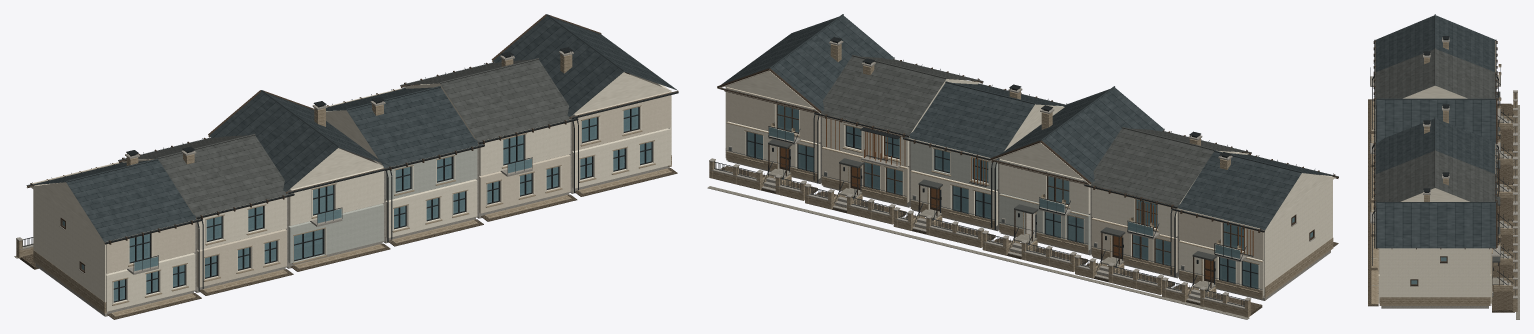
The model's file is HIL07_lod2.glb.
3 views of the same model, side by side, from view 1: azimuth 30°, elevation 25°; view 2: azimuth 150°, elevation 25°; view 3: azimuth 270°, elevation 25° (orthographic). The views are drawn at different scales.
Visible parts, largest first — view 1: Roof/Weatherproof_Membrane/Roof_Slate, Roof/Weatherproof_Membrane/Roof_Grey, Facade/Rear_Ground/Plaster_Pale, Facade/Recessed_Glazing/Glass_Clear, Facade/Rear_Upper/Plaster_Pale, Facade/Rear_Ground/Plaster_Cream, Facade/Rear_Upper/Plaster_Cream, Facade/End_Walls/Plaster_Pale, Roof/Triangular_Rear_Gable/Plaster_Pale, Details/Rear_Patio_Limestone_Slabs/Stone_Local, Facade/Rear_Ground/Plaster_Grey, Roof/Closed_Gable_Returns/Plaster_Pale (+18 smaller); view 2: Roof/Weatherproof_Membrane/Roof_Slate, Roof/Weatherproof_Membrane/Roof_Grey, Facade/Recessed_Glazing/Glass_Clear, Facade/Upper_Plaster/Plaster_Pale, Facade/Ground_Plaster/Plaster_Pale, Facade/End_Walls/Plaster_Pale, Facade/Upper_Plaster/Plaster_Cream, Facade/Stone_Plints/Stone_Local, Details/Fence_Pillars/Stone_Local, Details/Front_Stone_Low_Wall/Stone_Local, Facade/Ground_Plaster/Plaster_Cream, Roof/Triangular_Front_Gable/Plaster_Pale (+39 smaller); view 3: Roof/Weatherproof_Membrane/Roof_Slate, Roof/Weatherproof_Membrane/Roof_Grey, Facade/End_Walls/Plaster_Pale, Details/Front_Garden_Soil/Soil, Facade/End_Stone_Plints/Stone_Local, Roof/Closed_Gable_Returns/Plaster_Pale, Details/Rear_Patio_Limestone_Slabs/Stone_Local, Details/Porch_Cut_Stone_Stringers/Stone_Local, Details/Rear_Garden_Soil/Soil, Details/Fence_Pillars/Stone_Local, Structure/Site_Front_Path/Paving, Details/Continuous_Front_Garden_Terrain/Soil (+19 smaller).
Part boxes in pixels (x1,y1,x2,y2): Roof/Weatherproof_Membrane/Roof_Slate: [29, 16, 677, 241]; Roof/Weatherproof_Membrane/Roof_Grey: [119, 59, 575, 216]; Facade/Rear_Ground/Plaster_Pale: [106, 128, 670, 311]; Facade/Recessed_Glazing/Glass_Clear: [113, 107, 651, 301]; Facade/Rear_Upper/Plaster_Pale: [196, 119, 570, 249]; Facade/Rear_Ground/Plaster_Cream: [196, 154, 570, 287]; Facade/Rear_Upper/Plaster_Cream: [106, 91, 670, 273]; Facade/End_Walls/Plaster_Pale: [33, 72, 671, 313]; Roof/Triangular_Rear_Gable/Plaster_Pale: [290, 72, 671, 189]; Details/Rear_Patio_Limestone_Slabs/Stone_Local: [111, 168, 671, 316]; Facade/Rear_Ground/Plaster_Grey: [288, 203, 383, 263]; Roof/Closed_Gable_Returns/Plaster_Pale: [30, 83, 476, 239]; Roof/Weatherproof_Membrane/Roof_Slate: [721, 15, 1336, 230]; Roof/Weatherproof_Membrane/Roof_Grey: [821, 56, 1249, 206]; Facade/Recessed_Glazing/Glass_Clear: [747, 105, 1258, 288]; Facade/Upper_Plaster/Plaster_Pale: [822, 114, 1177, 236]; Facade/Ground_Plaster/Plaster_Pale: [726, 121, 1263, 295]; Facade/End_Walls/Plaster_Pale: [725, 87, 1332, 298]; Facade/Upper_Plaster/Plaster_Cream: [726, 87, 1263, 259]; Facade/Stone_Plints/Stone_Local: [726, 151, 1262, 299]; Details/Fence_Pillars/Stone_Local: [709, 161, 1250, 317]; Details/Front_Stone_Low_Wall/Stone_Local: [713, 171, 1244, 316]; Facade/Ground_Plaster/Plaster_Cream: [822, 146, 1177, 272]; Roof/Triangular_Front_Gable/Plaster_Pale: [725, 71, 1082, 179]; Roof/Weatherproof_Membrane/Roof_Slate: [1376, 15, 1495, 248]; Roof/Weatherproof_Membrane/Roof_Grey: [1376, 49, 1495, 207]; Facade/End_Walls/Plaster_Pale: [1379, 248, 1490, 297]; Details/Front_Garden_Soil/Soil: [1496, 103, 1511, 310]; Facade/End_Stone_Plints/Stone_Local: [1379, 297, 1490, 305]; Roof/Closed_Gable_Returns/Plaster_Pale: [1401, 85, 1469, 201]; Details/Rear_Patio_Limestone_Slabs/Stone_Local: [1371, 100, 1378, 304]; Details/Porch_Cut_Stone_Stringers/Stone_Local: [1494, 116, 1512, 291]; Details/Rear_Garden_Soil/Soil: [1368, 99, 1378, 306]; Details/Fence_Pillars/Stone_Local: [1513, 92, 1517, 311]; Structure/Site_Front_Path/Paving: [1516, 105, 1519, 319]; Details/Continuous_Front_Garden_Terrain/Soil: [1492, 104, 1514, 312].
Size of the model in its own units: 52.71 by 11.51 by 15.55.
Materials: 18 (18 with a texture image).
